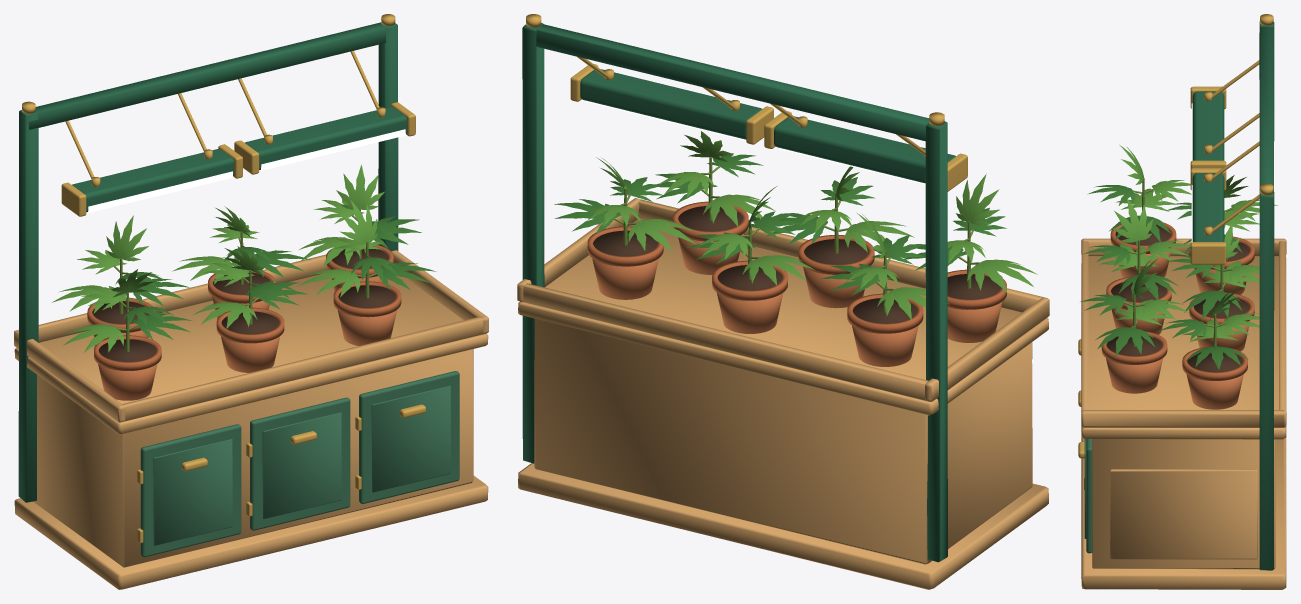
Rendered from grow_bench_tier1.glb.
3 views of the same model, side by side, from view 1: azimuth 30°, elevation 25°; view 2: azimuth 150°, elevation 25°; view 3: azimuth 270°, elevation 25° (orthographic). The views are drawn at different scales.
Parts seen in each view (by area): view 1: Body, Top, Plinth, Beam, Post-1, DrawerInset0, DrawerInset1, DrawerInset2, Lip1, Drawer0, Drawer2, Drawer1 (+31 smaller); view 2: Body, Top, Plinth, Beam, Post-1, Lip0, Post1, LightBar0.43, LightBar-0.43, Lip1, Lip3, P0Pot (+32 smaller); view 3: EndPanel, Top, Body, Plinth, Post1, Lip2, Beam, LightBar-0.43, LightBar0.43, P5Pot, P2Pot, Lip1 (+47 smaller).
Boxes of the visible parts, x1,y1,x2,y2 form: Body: [33, 349, 473, 567]; Top: [14, 273, 488, 434]; Plinth: [14, 476, 488, 589]; Beam: [28, 22, 385, 129]; Post-1: [18, 110, 38, 502]; DrawerInset0: [153, 438, 232, 545]; DrawerInset1: [262, 412, 341, 518]; DrawerInset2: [371, 385, 450, 492]; Lip1: [120, 316, 487, 421]; Drawer0: [140, 424, 241, 557]; Drawer2: [359, 371, 459, 503]; Drawer1: [250, 397, 350, 530]; Body: [534, 318, 1032, 564]; Top: [518, 219, 1048, 415]; Plinth: [518, 463, 1048, 589]; Beam: [526, 24, 929, 141]; Post-1: [925, 121, 947, 562]; Lip0: [518, 283, 930, 401]; Post1: [522, 23, 544, 463]; LightBar0.43: [580, 69, 761, 139]; LightBar-0.43: [774, 116, 955, 183]; Lip1: [638, 199, 1047, 312]; Lip3: [925, 297, 1049, 401]; P0Pot: [852, 325, 918, 366]; EndPanel: [1110, 469, 1257, 559]; Top: [1081, 256, 1286, 439]; Body: [1092, 439, 1275, 569]; Plinth: [1081, 432, 1286, 589]; Post1: [1259, 191, 1274, 570]; Lip2: [1081, 410, 1286, 427]; Beam: [1259, 26, 1273, 194]; LightBar-0.43: [1192, 91, 1224, 160]; LightBar0.43: [1192, 173, 1224, 241]; P5Pot: [1106, 358, 1162, 393]; P2Pot: [1186, 374, 1243, 409]; Lip1: [1081, 239, 1088, 410].
Bounding box in the file's own units: 1.96 × 1.98 × 0.928.
